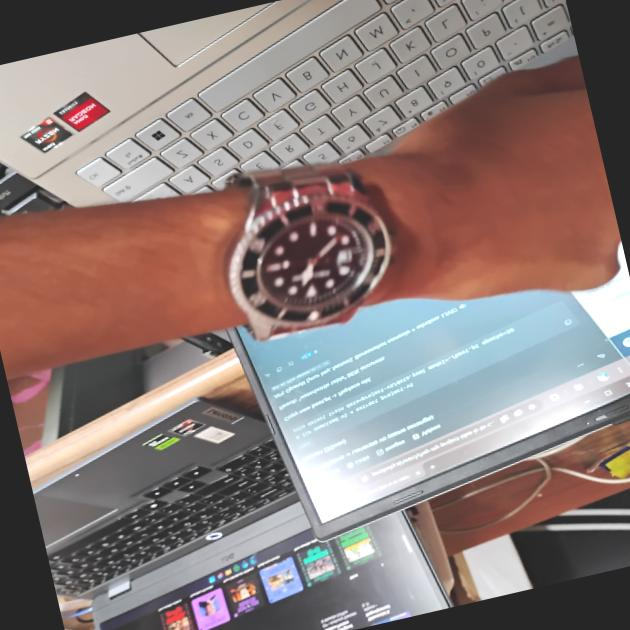wristwatch: (201, 134, 428, 360)
